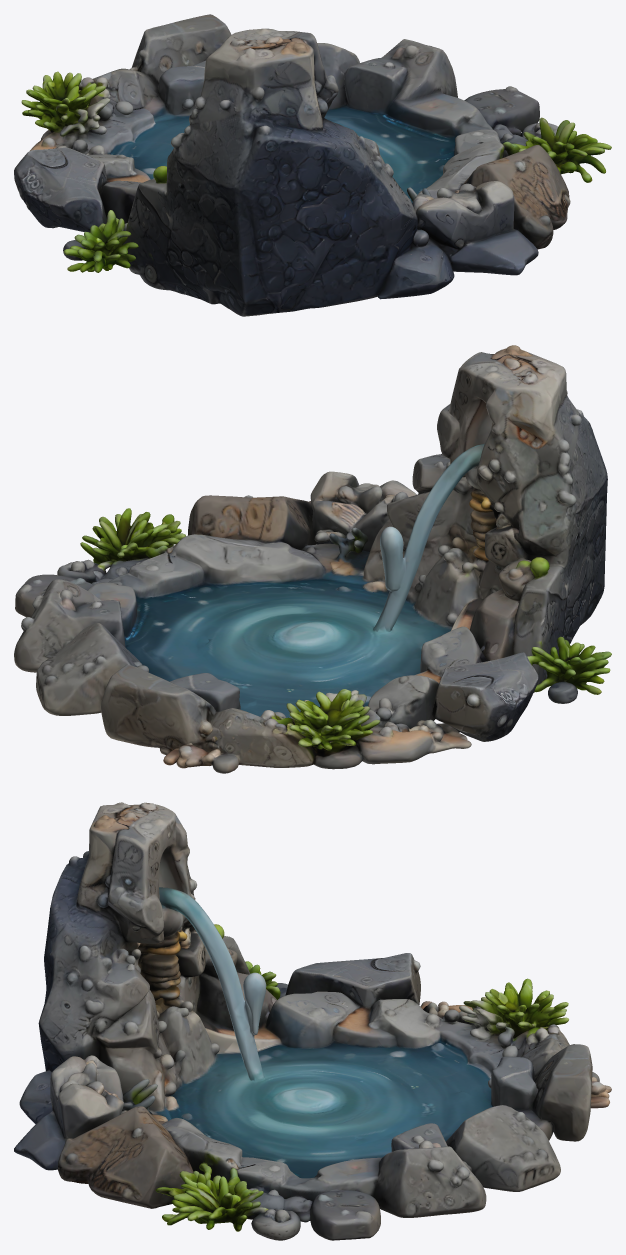
Rendered from nature-hot-spring.glb.
3 renders of one model, top to bottom at view 1: azimuth 30°, elevation 25°; view 2: azimuth 150°, elevation 25°; view 3: azimuth 270°, elevation 25°, orthographic. The views are drawn at different scales.
Parts seen in each view (by area): view 1: tripo_node_c4ae3e4a-01af-46bd-a3d1-3c1e707b878b; view 2: tripo_node_c4ae3e4a-01af-46bd-a3d1-3c1e707b878b; view 3: tripo_node_c4ae3e4a-01af-46bd-a3d1-3c1e707b878b.
Boxes of the visible parts, left/top/right/bottom form: tripo_node_c4ae3e4a-01af-46bd-a3d1-3c1e707b878b: left=14, top=14, right=611, bottom=316; tripo_node_c4ae3e4a-01af-46bd-a3d1-3c1e707b878b: left=14, top=345, right=611, bottom=773; tripo_node_c4ae3e4a-01af-46bd-a3d1-3c1e707b878b: left=14, top=802, right=611, bottom=1240.
Bounding box in the file's own units: 2.05 × 1 × 2.01.
1 material, 1 textured.
